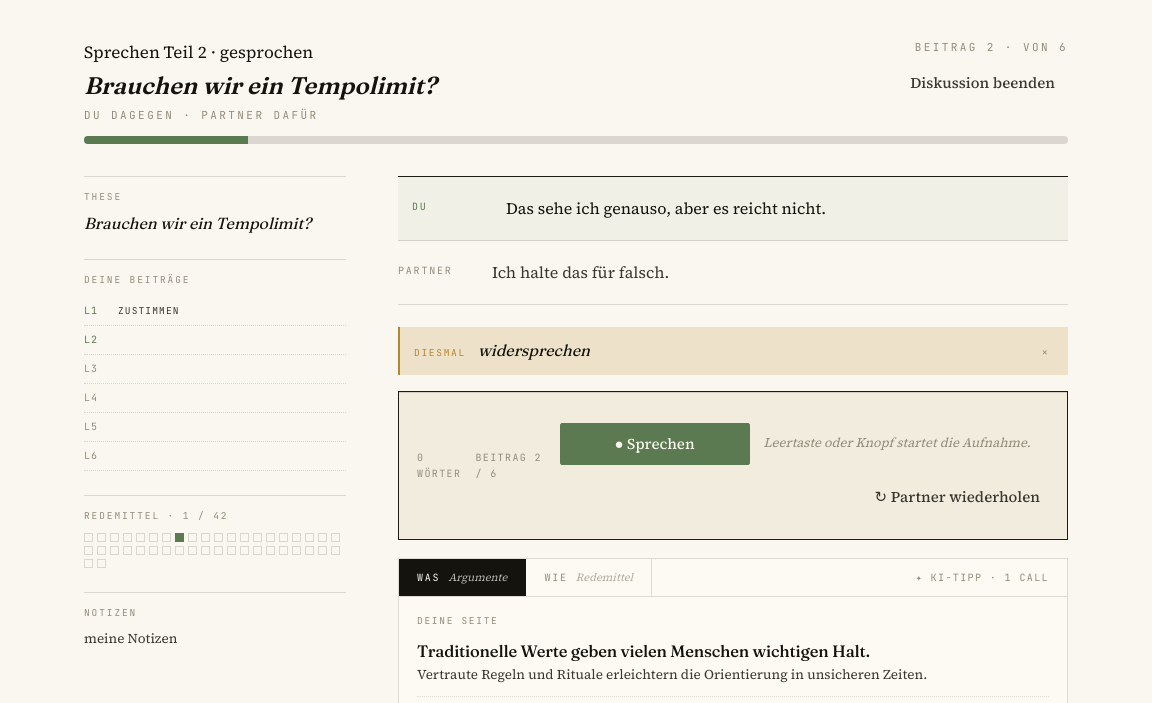
Test case: Teil2Runner drawer › renders phrases as plain text in a spoken Discussion
No composer, no caret — a tappable phrase would do nothing.
Click the 2nd button with class "spr-dtab": (589, 577) 526,558 -> 652,596
(page scrolled)
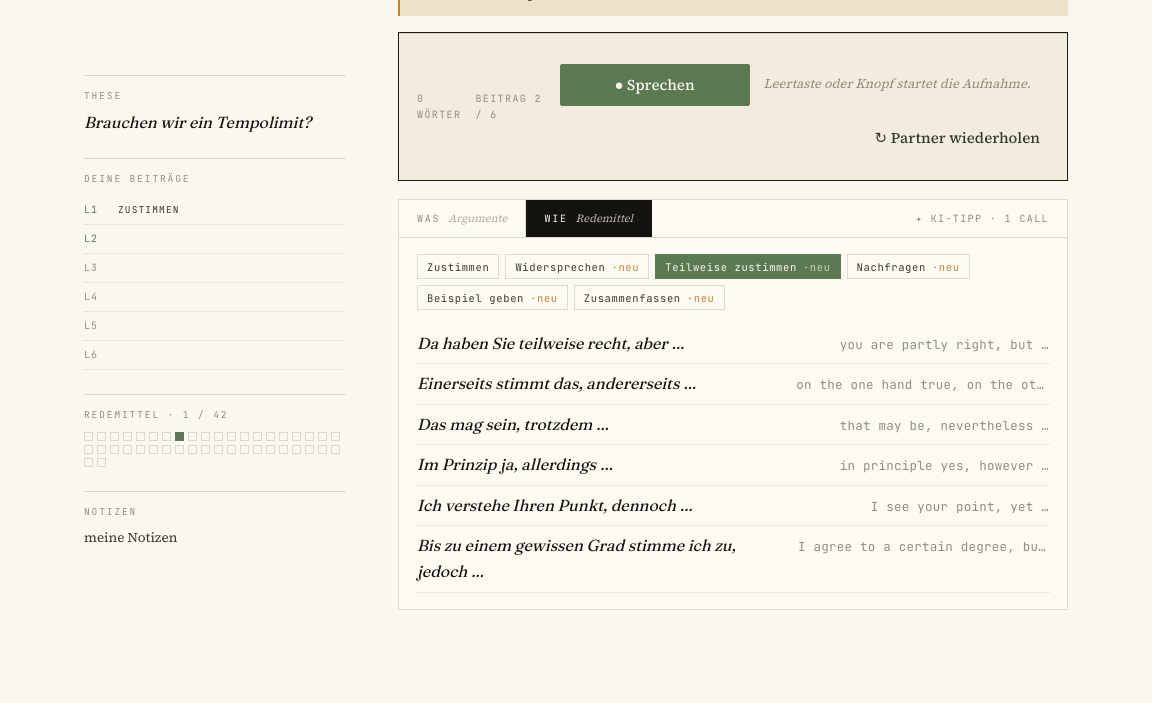
Expected: the text "Da haben Sie teilweise recht, aber …" is shown, 417,330 -> 685,356
